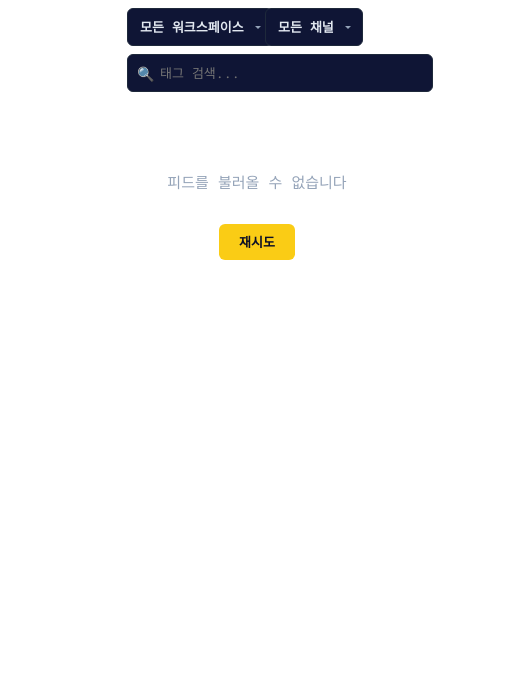
Scenario: FeedList › retries fetch when retry button is clicked
Step 1. Click the button "재시도" → [257, 242], box [219,224,295,260]
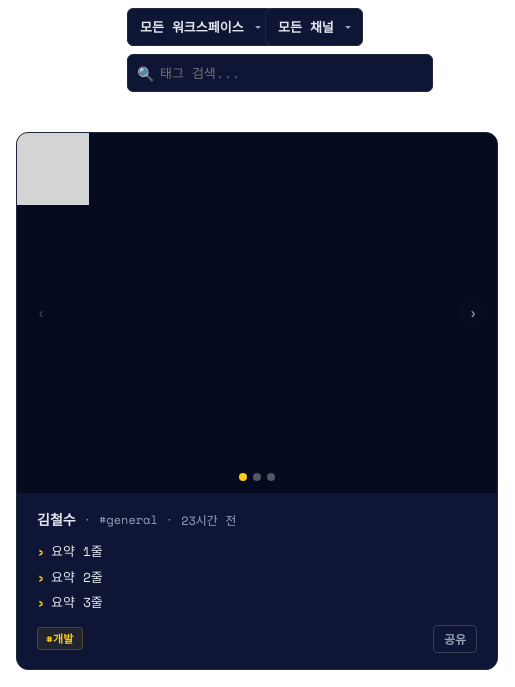
Expected: the number of elements with test id "feed-card" is 1
